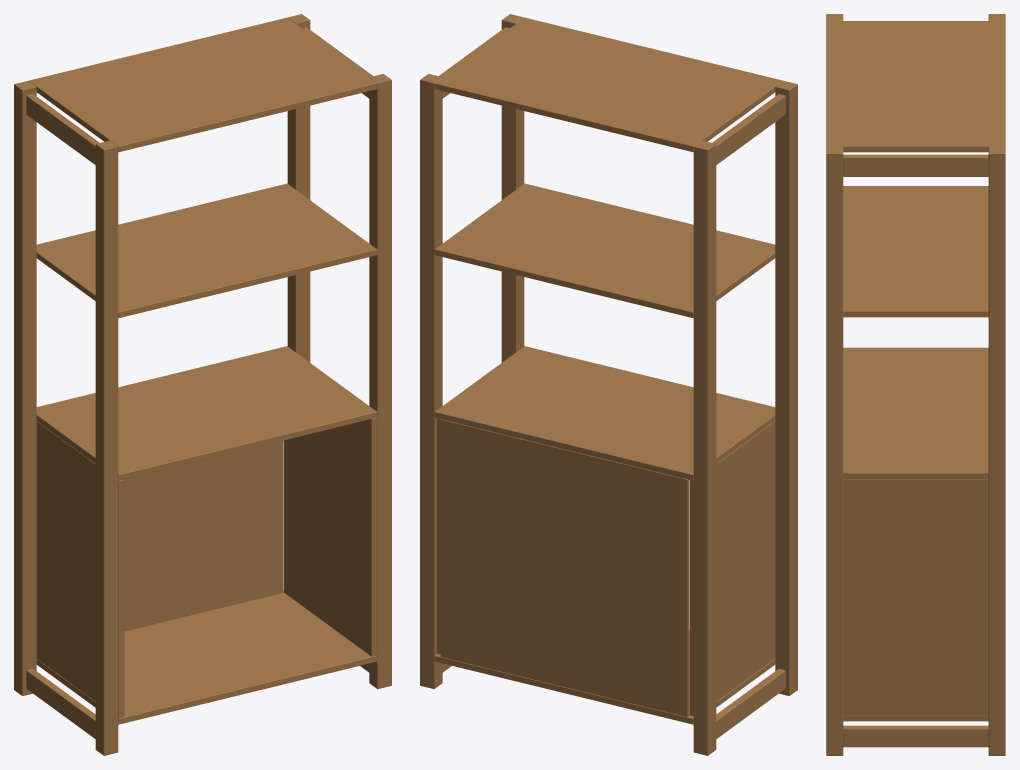
Rendered from solidwood_shelving_base_cabinet_body.glb.
3 renders of one model, left to right at view 1: azimuth 30°, elevation 25°; view 2: azimuth 150°, elevation 25°; view 3: azimuth 270°, elevation 25°, orthographic.
Parts seen in each view (by area): view 1: solidwood_shelving_base_cabinet_body.001; view 2: solidwood_shelving_base_cabinet_body.001; view 3: solidwood_shelving_base_cabinet_body.001.
Boxes of the visible parts, bbox=[...] form: solidwood_shelving_base_cabinet_body.001: bbox=[14, 14, 391, 755]; solidwood_shelving_base_cabinet_body.001: bbox=[420, 14, 797, 755]; solidwood_shelving_base_cabinet_body.001: bbox=[826, 14, 1005, 755].
Size of the model in its own units: 0.89 by 1.79 by 0.482.
